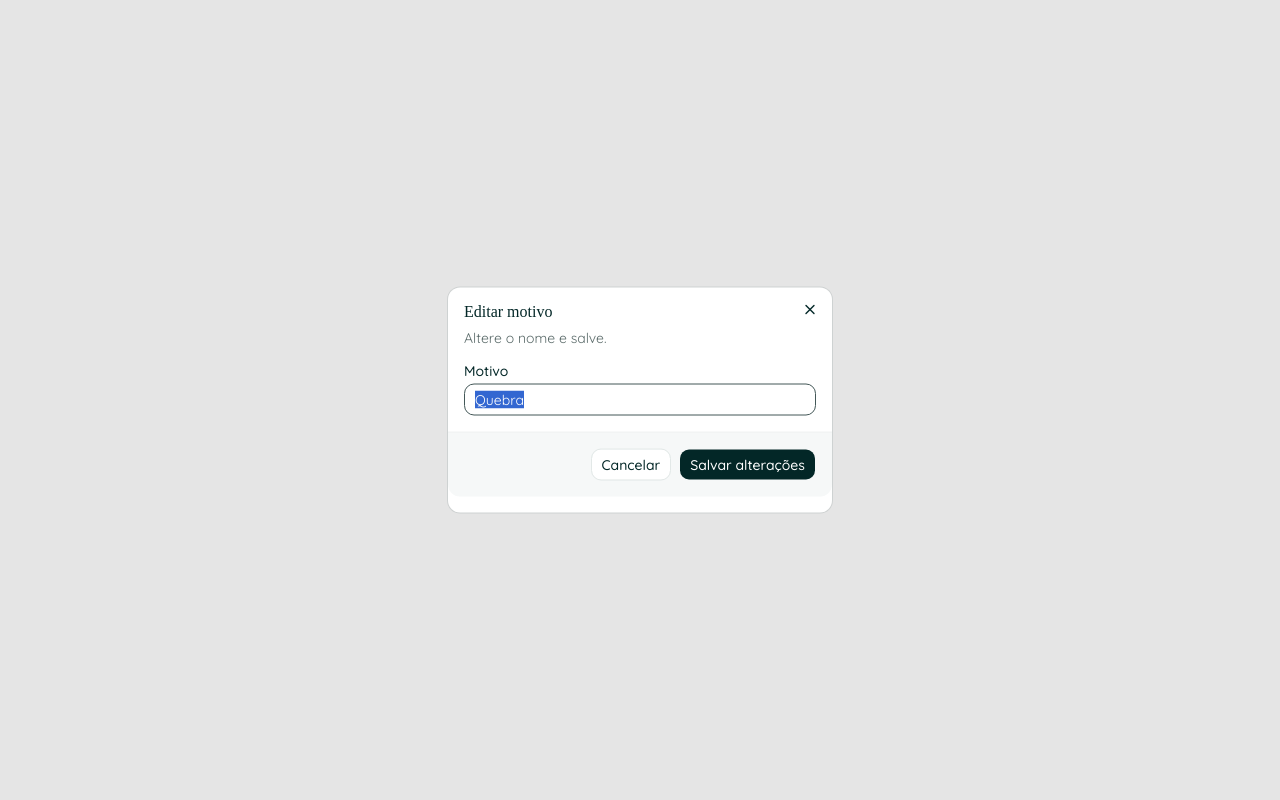
Test case: ResourceFormDialog › clique duplo envia uma vez só
Double-click the button "Salvar alterações": (748, 464) [679,448,816,480]
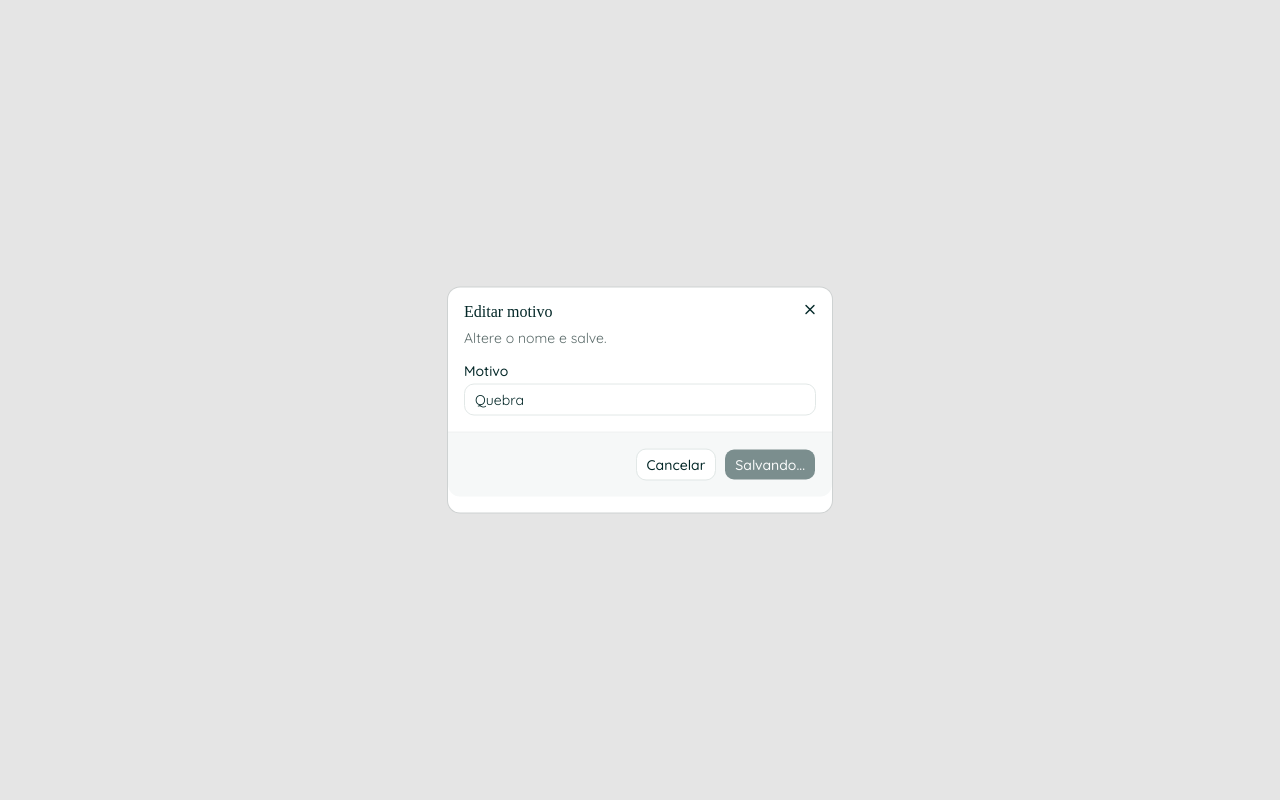
Check: the button "Salvando..." is disabled, box [724,448,816,480]
